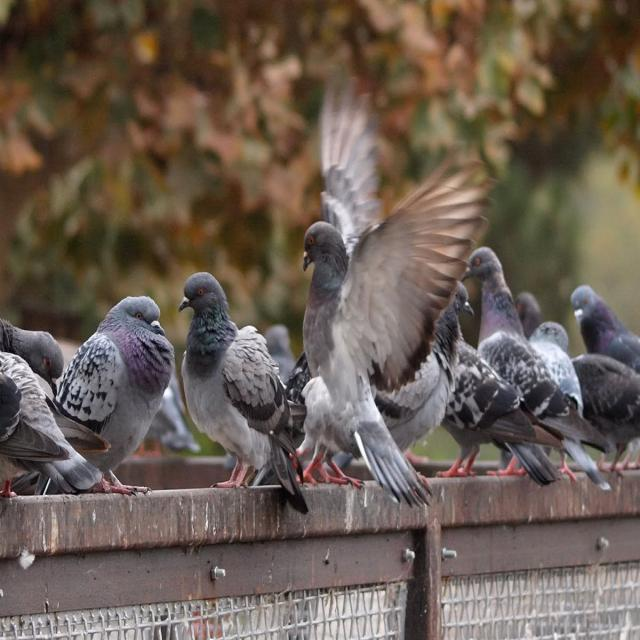Pigeon: (300, 100, 484, 498), (448, 237, 598, 467), (174, 262, 296, 486), (50, 287, 176, 489), (551, 263, 640, 452)
